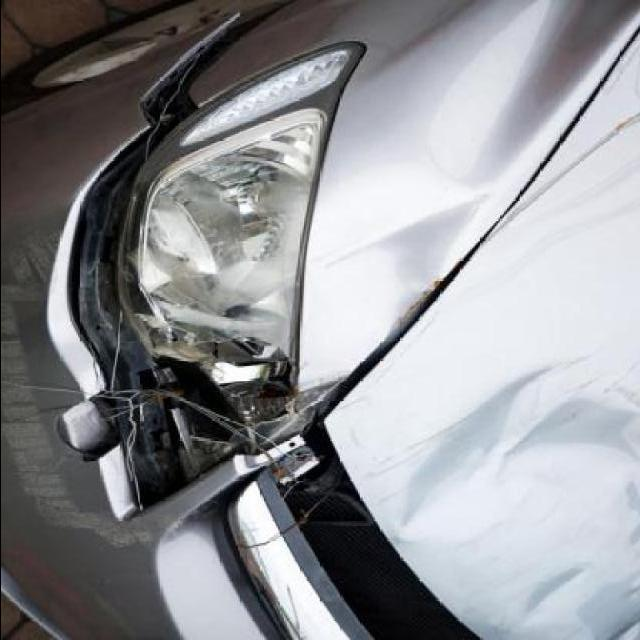Headlight-Damage: (83, 107, 334, 389)
bonnet-dent: (299, 240, 640, 640)
fender-dent: (155, 0, 627, 108)
